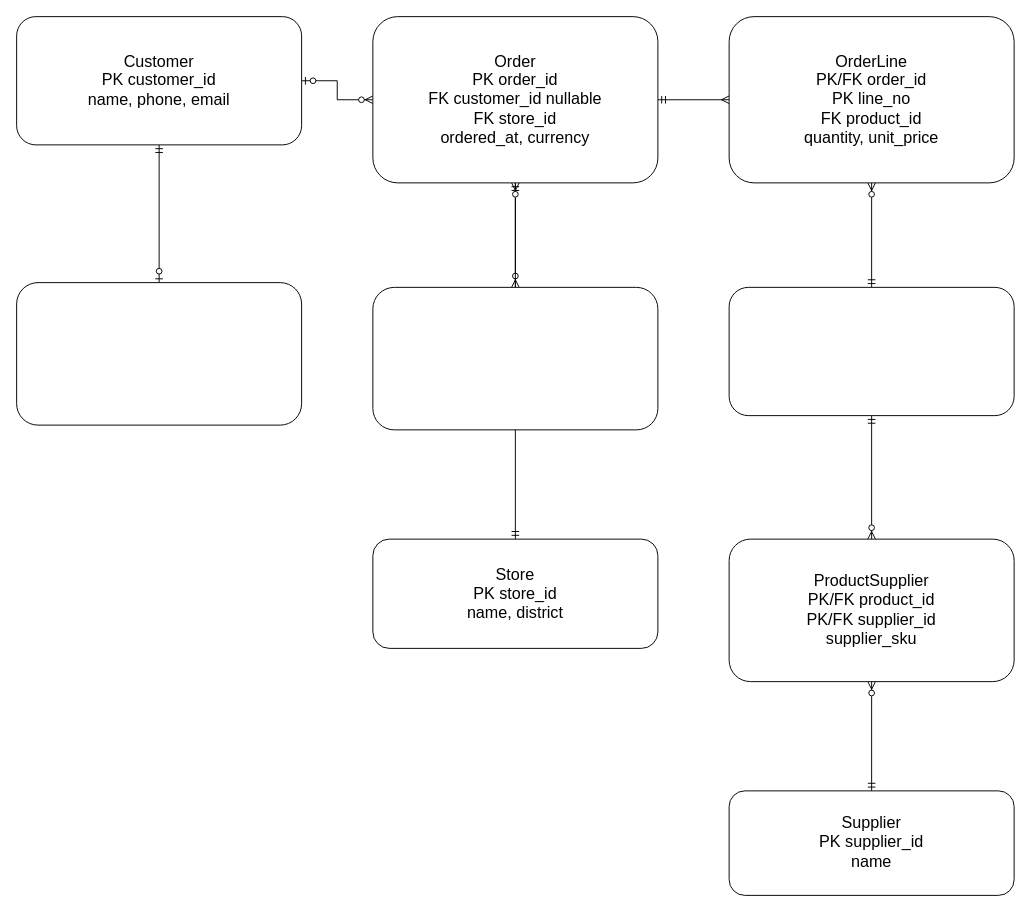
Some shapes in this 1031 by 912 pixel diagram are drawn without their labels. The centre of each missing label's shape, as x and y in pixels:
LoyaltyAccount PK account_id FK customer_id UNIQUE points_balance: point (159, 353)
Payment PK payment_id FK order_id provider, ref, amount: point (515, 358)
Product PK product_id name, category, unit: point (871, 351)
